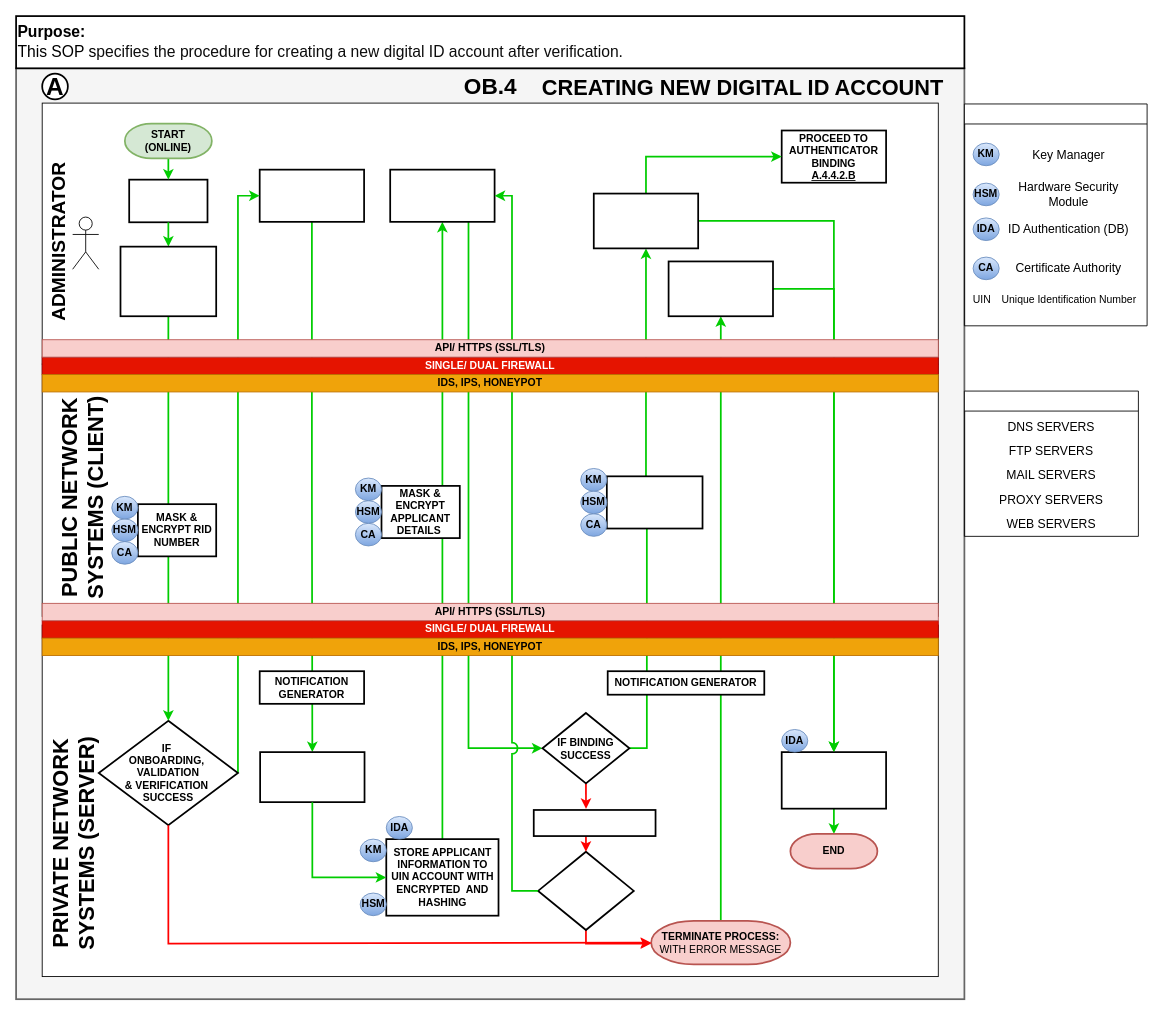
This 1162x1014 diagram has some shape labels left out. The box of each missing label's shape, as (x1, y1, x2, y2) in pixels:
ADMIN: (72, 216, 99, 269)
BIND APPLICANT ATTRIBUTES FROM RID TO UIN ACCOUNT: (389, 168, 495, 222)
EXCEPTION AND ERROR HANDLING (COUNTER): (532, 809, 656, 837)
GENERATE UIN FOR APPLICANT: (259, 751, 365, 803)
IF RETRY COUNT <=3: (537, 850, 634, 930)
INITIATES UIN GENERATION WITH RID: (258, 168, 365, 222)
LEGEND: (964, 103, 1147, 326)
LOGS THE PROCESS AND STATUS: (780, 751, 887, 809)
MASK & ENCRYPT DID ACCOUNT DETAILS: (606, 475, 703, 529)
PUBLIC NETWORK: (964, 390, 1138, 536)
RECEIVE NEW DID ACCOUNT DETAILS WITH UIN: (592, 192, 699, 249)
RECEIVE NEW DID ACCOUNT FAILURE WITH ERROR MESSAGE: (667, 260, 773, 317)
RECEIVE REQUEST FOR NEW DID: (128, 178, 208, 223)
VERIFY ALL STAGES OF IDENTITY PROOFING COMPLETED: (119, 245, 217, 317)
